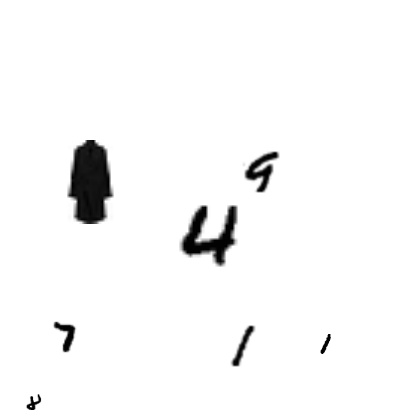1: (213, 318, 269, 374), (311, 330, 339, 358)
4: (168, 194, 252, 278)
7: (45, 313, 87, 355)
8: (22, 392, 44, 414)
9: (233, 142, 289, 198)
Dress: (47, 140, 131, 224)
